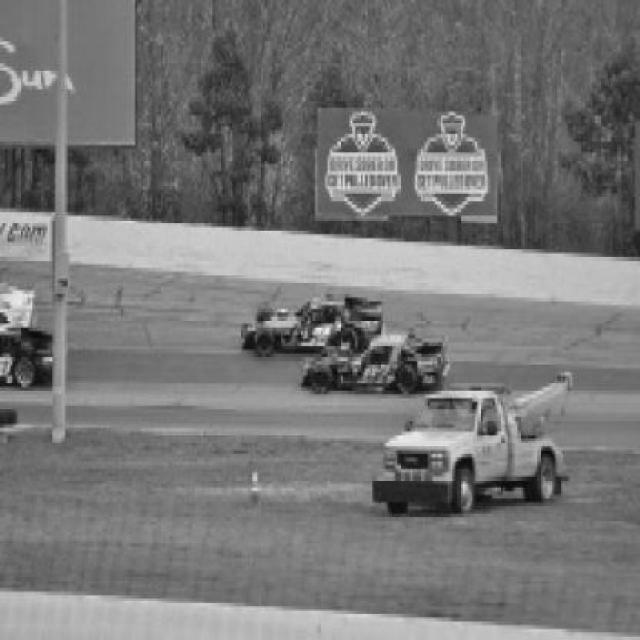Tow Truck: (372, 372, 573, 515)
